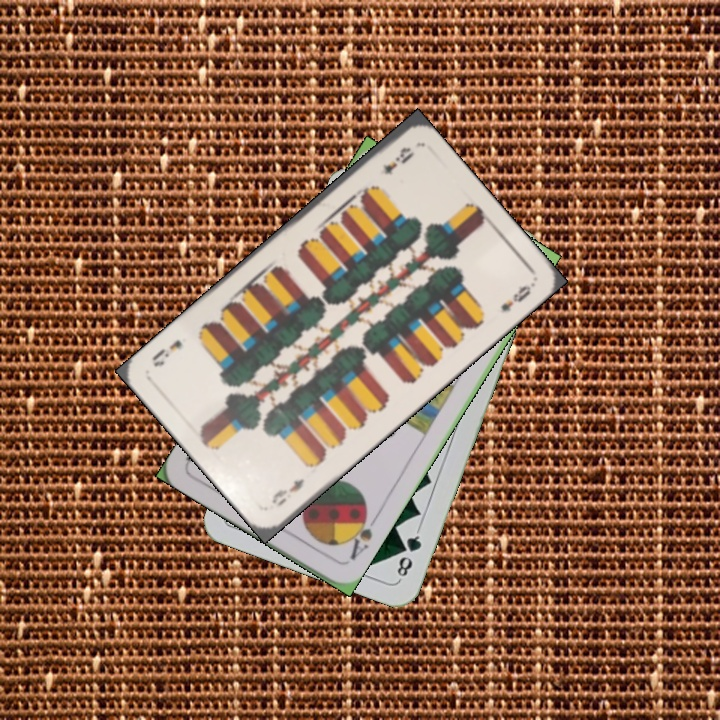E9: (267, 474, 307, 509), (378, 143, 417, 178)
G8: (393, 525, 425, 582)
SA: (341, 507, 380, 563)
